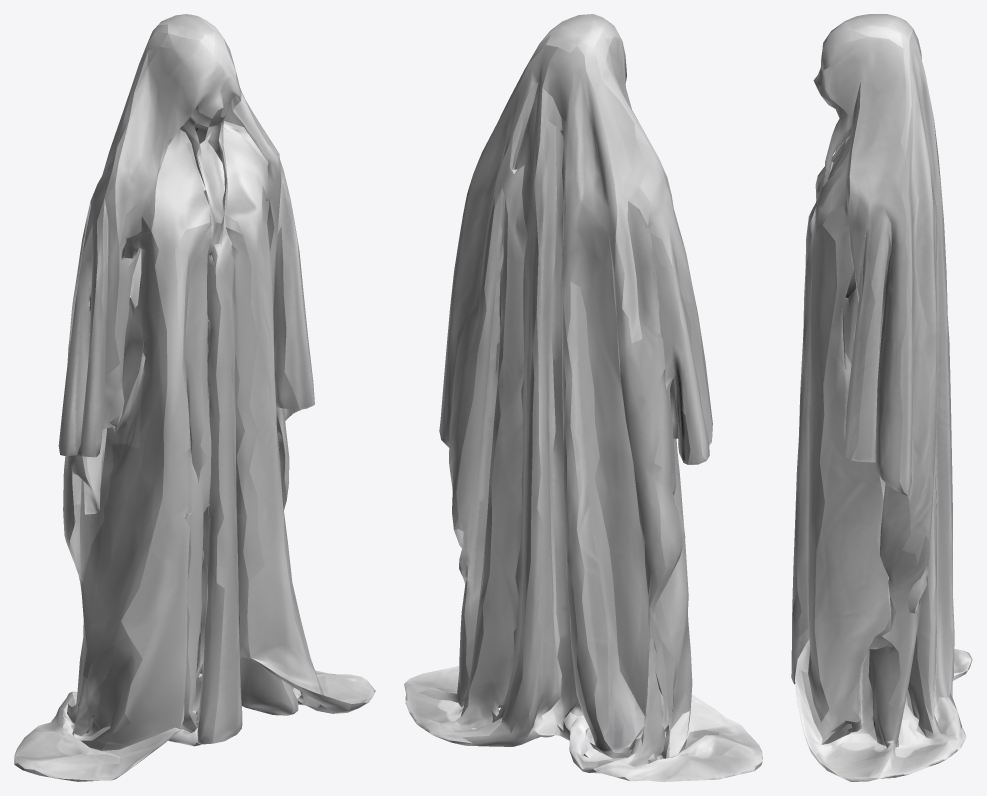
The model's file is ghost_sheet.glb.
3 views of the same model, side by side, from view 1: azimuth 30°, elevation 25°; view 2: azimuth 150°, elevation 25°; view 3: azimuth 270°, elevation 25° (orthographic). The views are drawn at different scales.
Parts seen in each view (by area): view 1: geometry_0; view 2: geometry_0; view 3: geometry_0.
Part boxes in pixels (x1,y1,x2,y2): geometry_0: [14, 14, 375, 781]; geometry_0: [404, 14, 762, 781]; geometry_0: [791, 14, 972, 781].
Bounding box in the file's own units: 0.9312 × 1.8 × 0.4318.
1 material, 1 textured.
